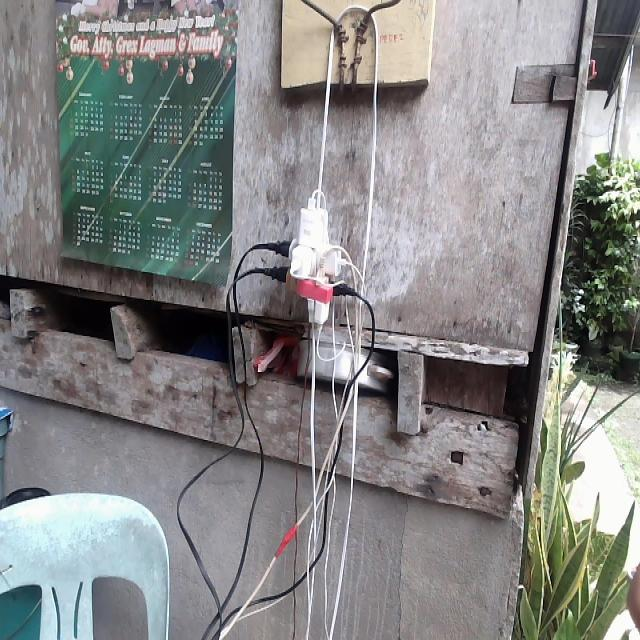-: (259, 171, 374, 353)
